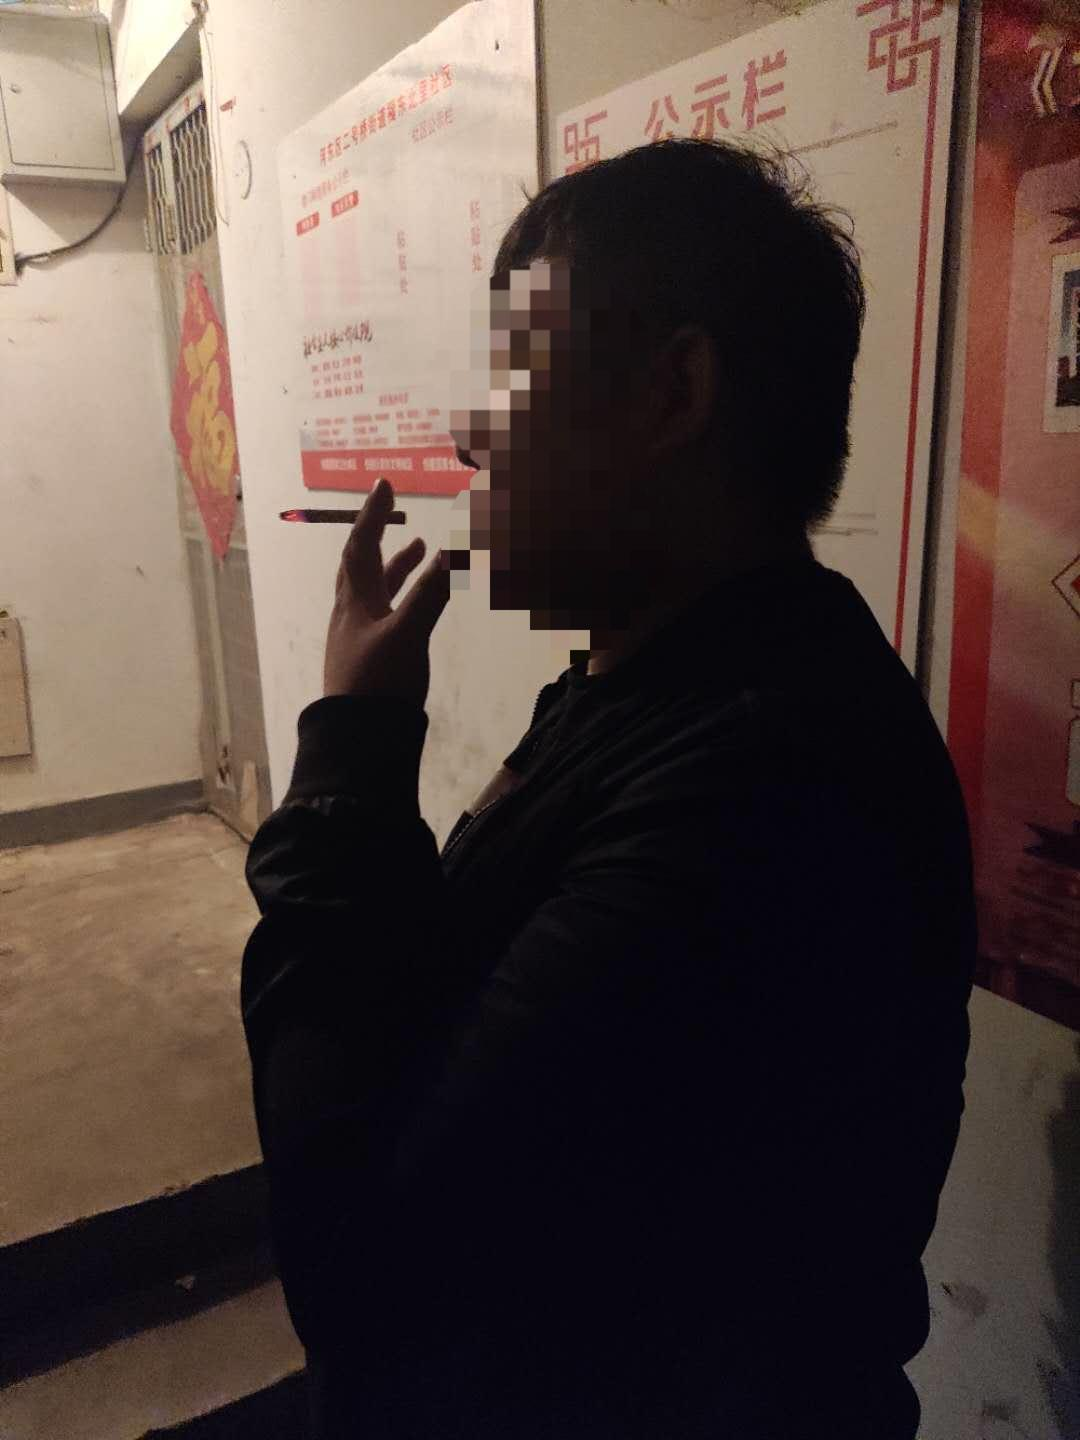smoke: (271, 503, 416, 531)
